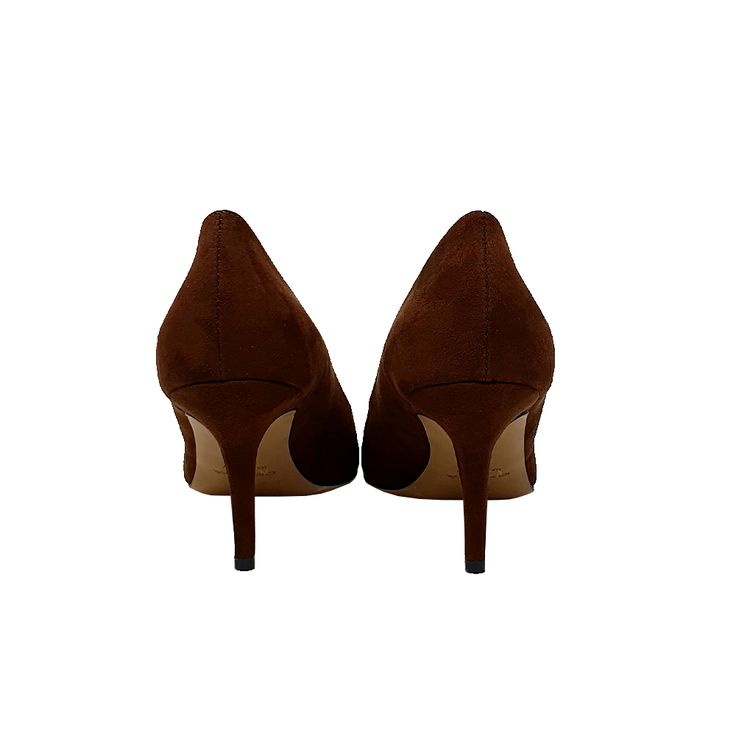gamuza: (157, 210, 555, 398)
